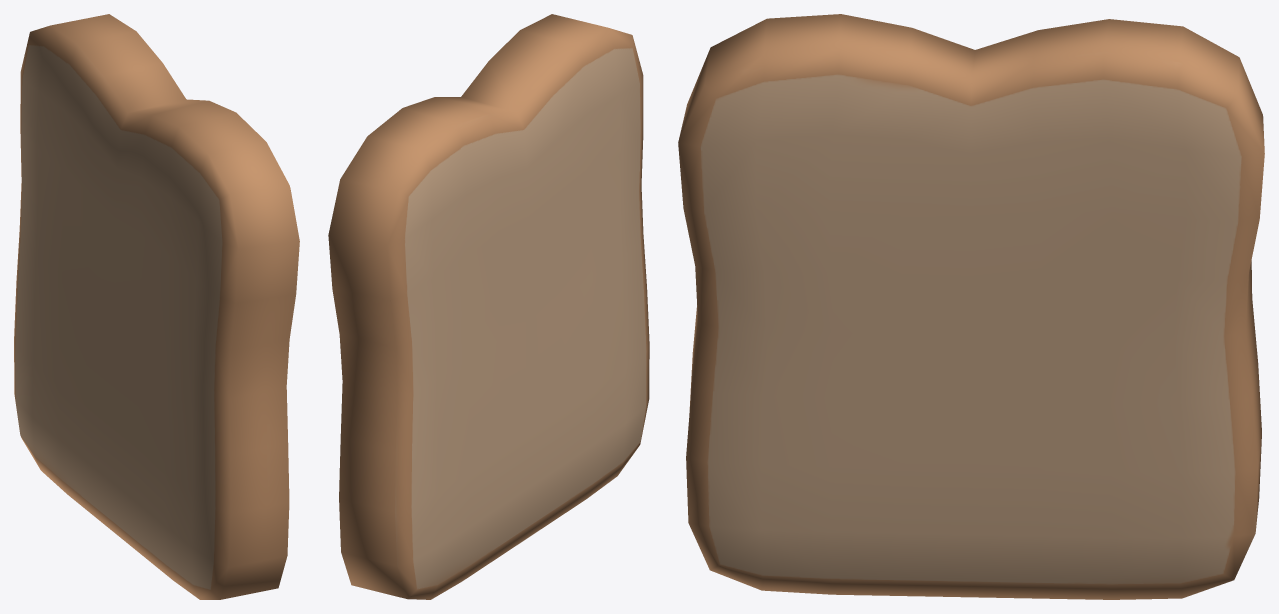
File: tost.fbx
The picture shows the model from 3 angles, left to right: view 1: azimuth 30°, elevation 25°; view 2: azimuth 150°, elevation 25°; view 3: azimuth 270°, elevation 25°; orthographic projection. The views are drawn at different scales.
Visible parts, largest first — view 1: tostLP; view 2: tostLP; view 3: tostLP.
Boxes of the visible parts, <box> form: tostLP: <box>14,14,299,599</box>; tostLP: <box>328,14,649,599</box>; tostLP: <box>678,14,1264,599</box>.
Size of the model in its own units: 44.48 by 199 by 192.
Materials: 1 (1 with a texture image).
